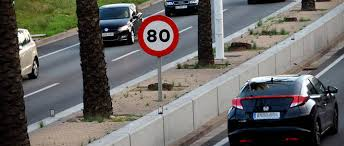Speed_limit_80km: (137, 15, 179, 57)
